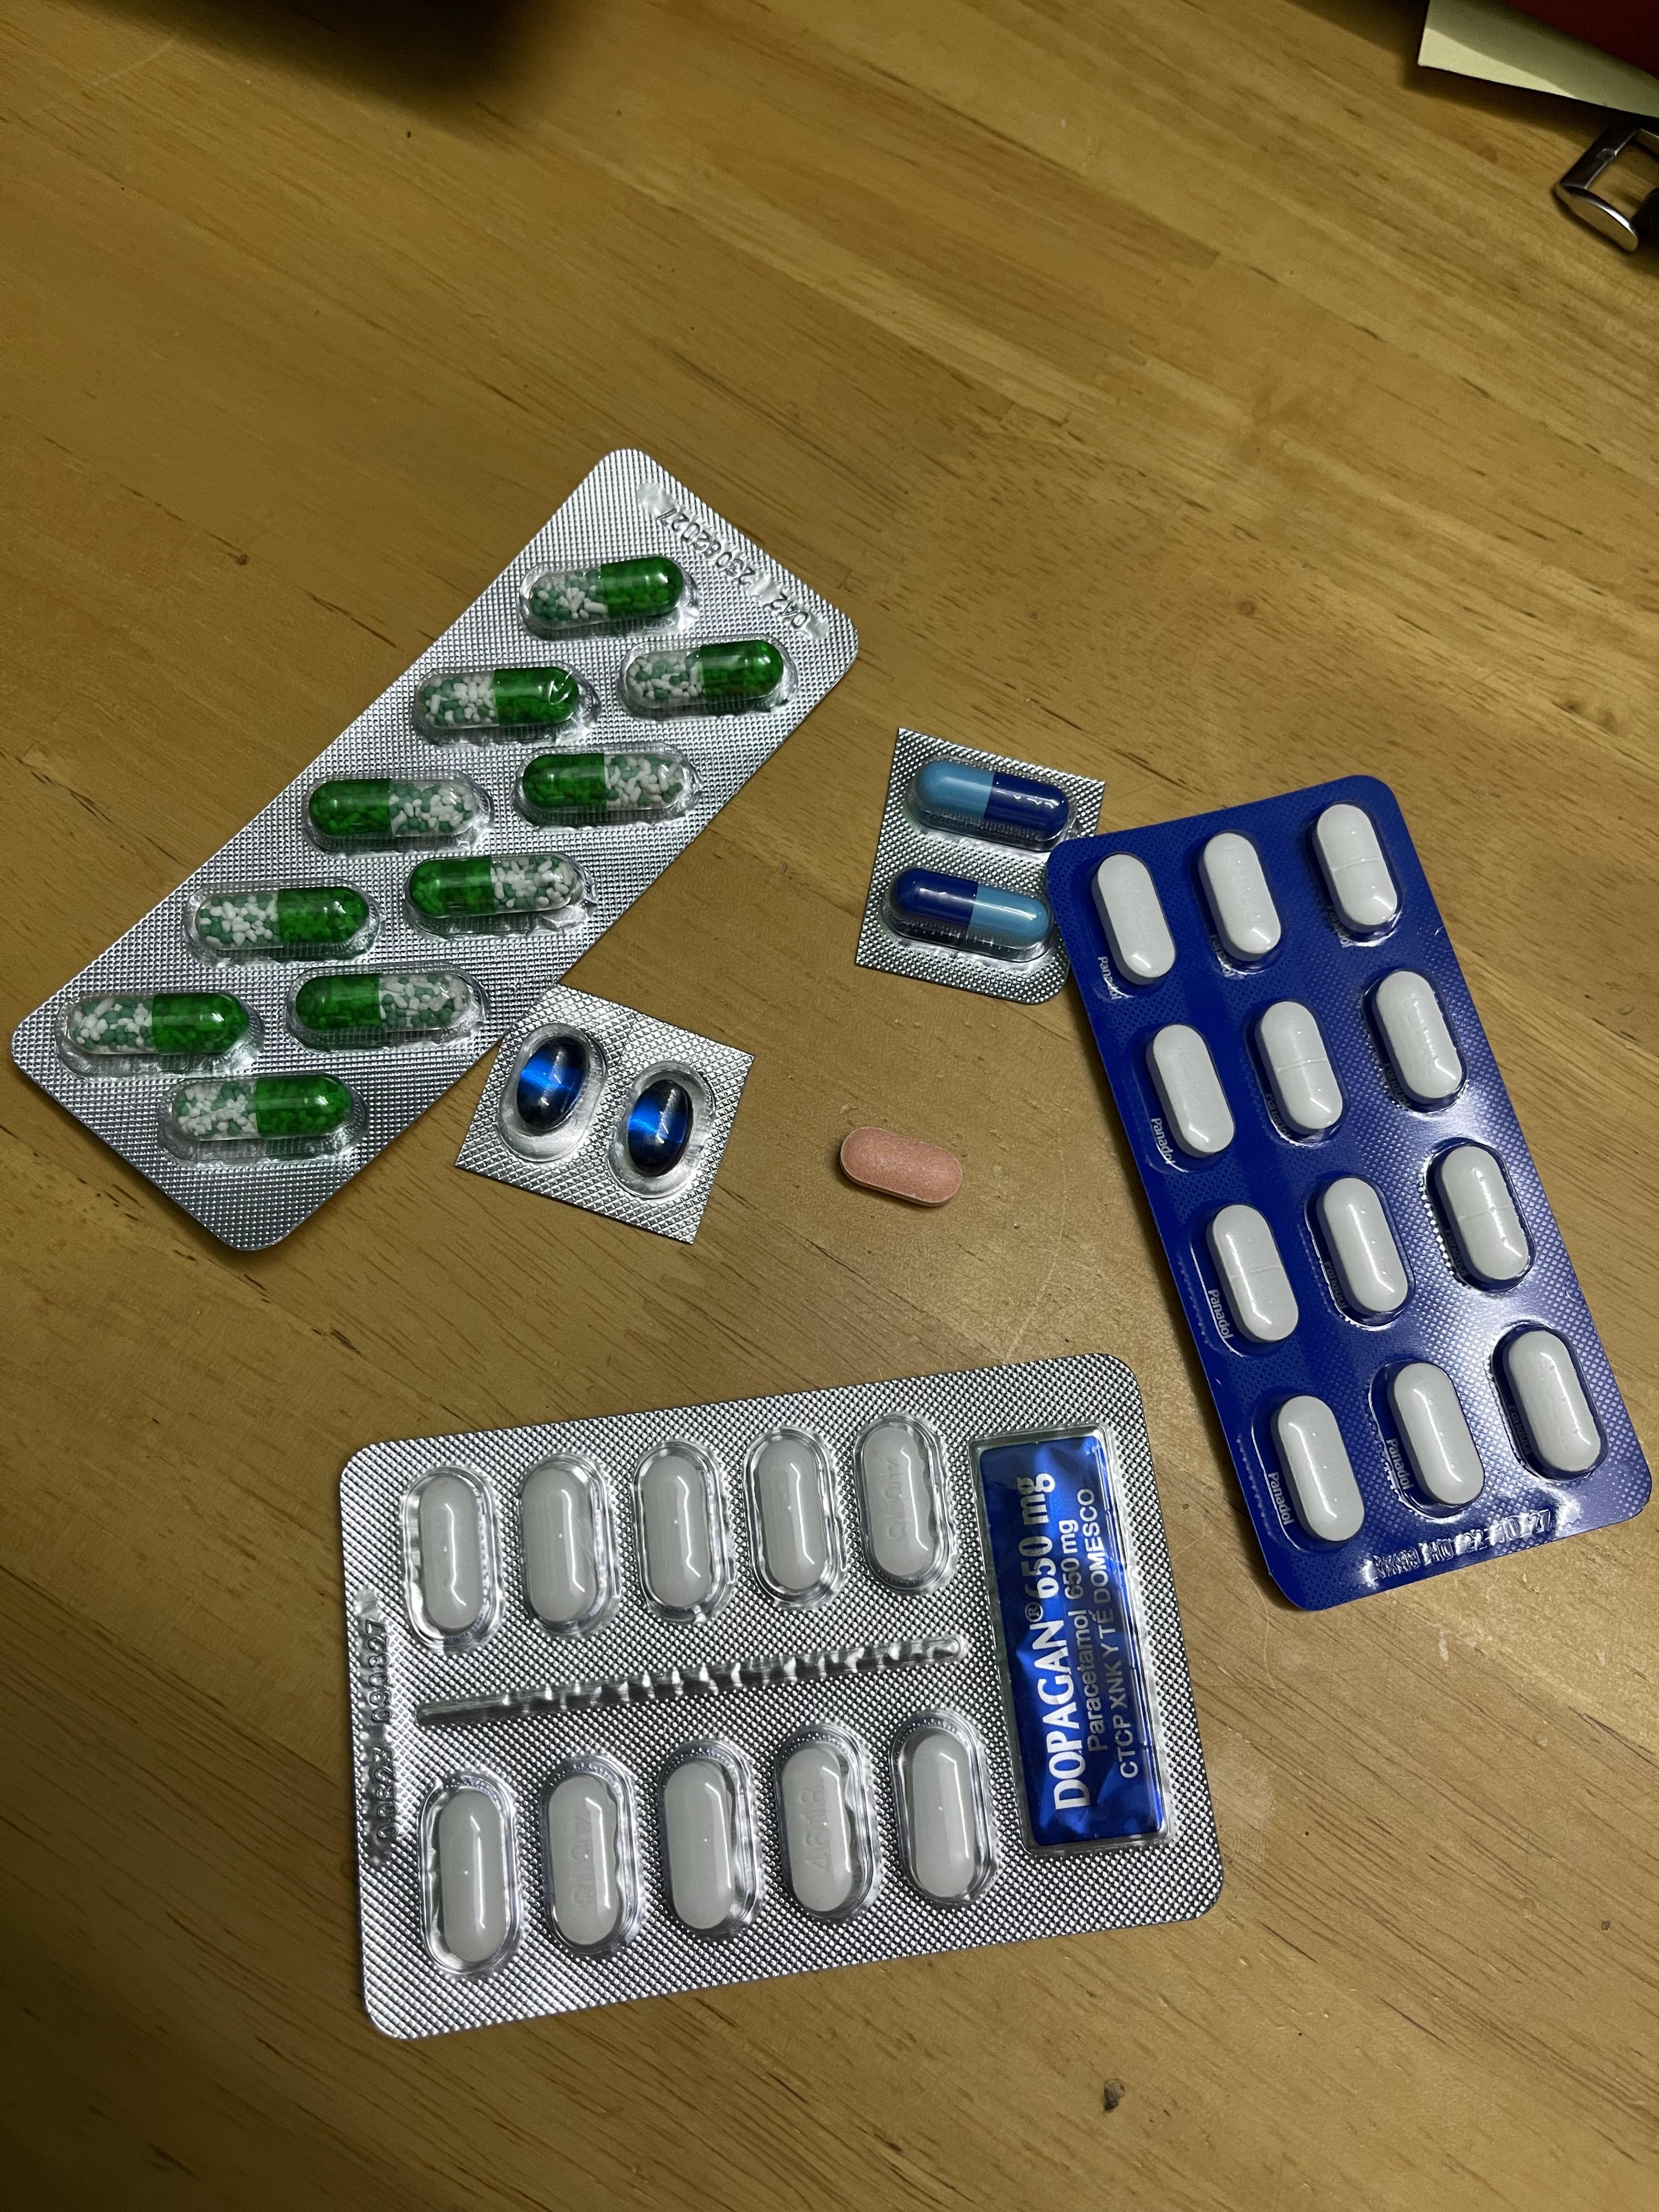Lincomyxin_500mg: (624, 1080, 694, 1174), (516, 1038, 586, 1129)
Loratadine_10mg: (838, 1127, 964, 1205)
Paracetamol_350mg: (1493, 1324, 1607, 1480), (1382, 1355, 1485, 1510), (1429, 1139, 1534, 1289), (1269, 1393, 1366, 1547), (1368, 967, 1467, 1111), (1312, 1174, 1410, 1320), (1251, 998, 1347, 1139), (1206, 1204, 1298, 1346), (1310, 801, 1401, 937), (1147, 1022, 1234, 1160), (1197, 831, 1283, 961), (1093, 852, 1176, 984)
Paracetamol_500mg: (422, 1773, 518, 1975), (538, 1764, 638, 1958), (657, 1750, 756, 1937), (774, 1733, 870, 1919), (856, 1414, 953, 1588), (516, 1454, 612, 1630), (406, 1465, 495, 1642), (749, 1430, 840, 1601), (903, 1721, 983, 1905), (638, 1444, 721, 1615)
Paracetamol_650mg: (411, 853, 577, 921), (171, 1078, 345, 1143), (70, 993, 246, 1055), (195, 887, 364, 951), (300, 972, 460, 1038), (422, 665, 579, 730), (526, 752, 681, 817), (528, 561, 678, 627), (629, 643, 779, 709), (312, 779, 474, 840)
pill: (892, 869, 1047, 953), (915, 761, 1072, 840)
